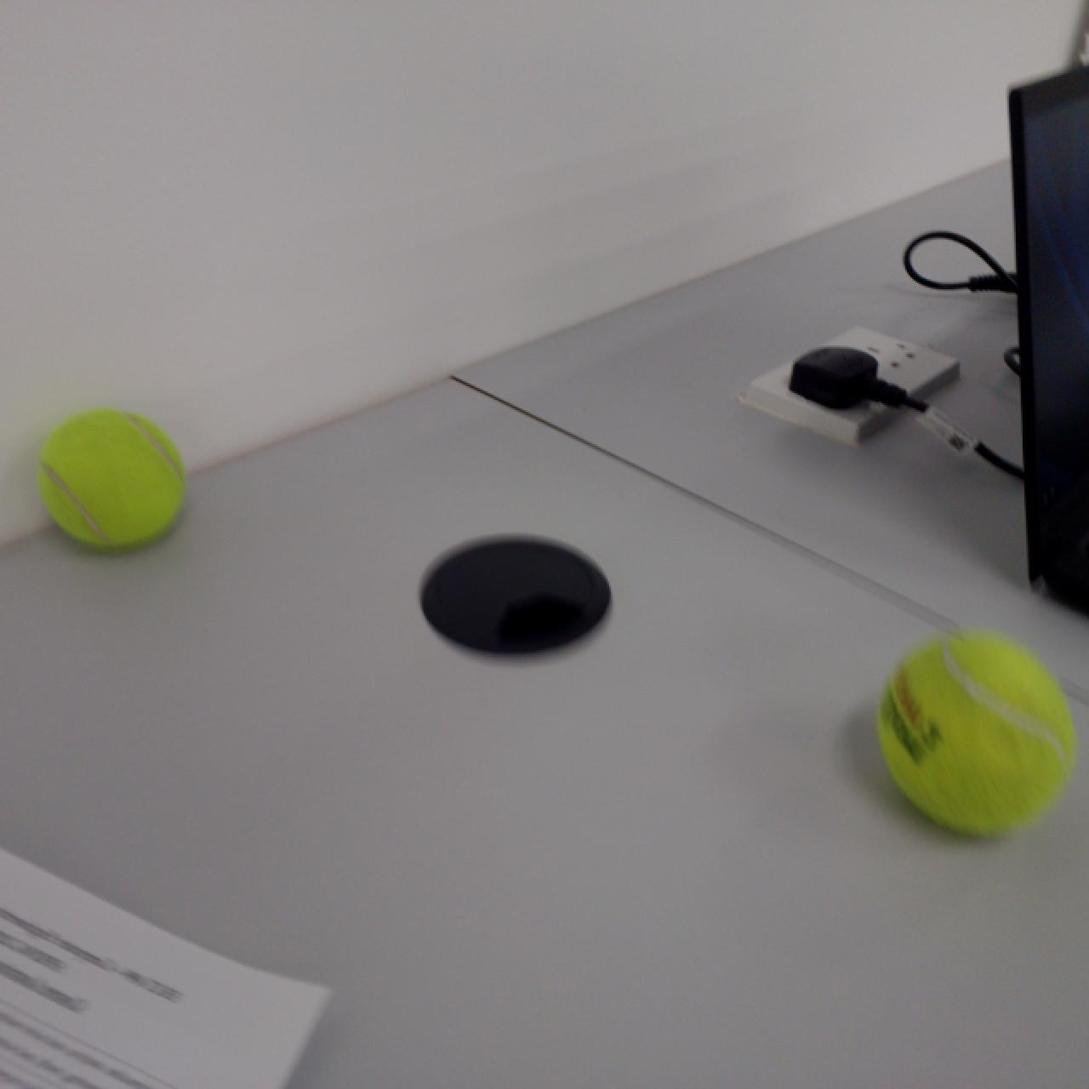tennis-ball: (872, 631, 1078, 839), (34, 406, 190, 553)
